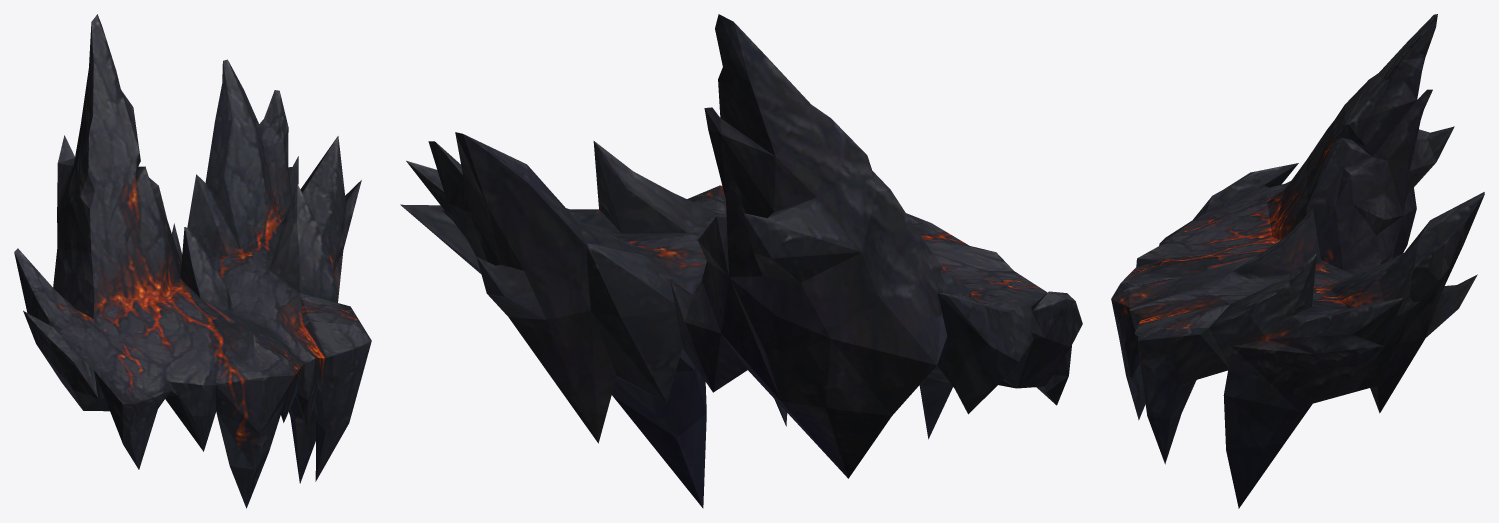
File: pve_ljjl04a.FBX
3 views of the same model, side by side, from view 1: azimuth 30°, elevation 25°; view 2: azimuth 150°, elevation 25°; view 3: azimuth 270°, elevation 25° (orthographic). The views are drawn at different scales.
Parts seen in each view (by area): view 1: pve_ljjl04a; view 2: pve_ljjl04a; view 3: pve_ljjl04a.
Part boxes in pixels (x1,y1,x2,y2): pve_ljjl04a: (14, 14, 371, 508); pve_ljjl04a: (400, 14, 1082, 508); pve_ljjl04a: (1111, 14, 1484, 508).
Bounding box in the file's own units: 2041 × 2187 × 1679.
1 material, 1 textured.
